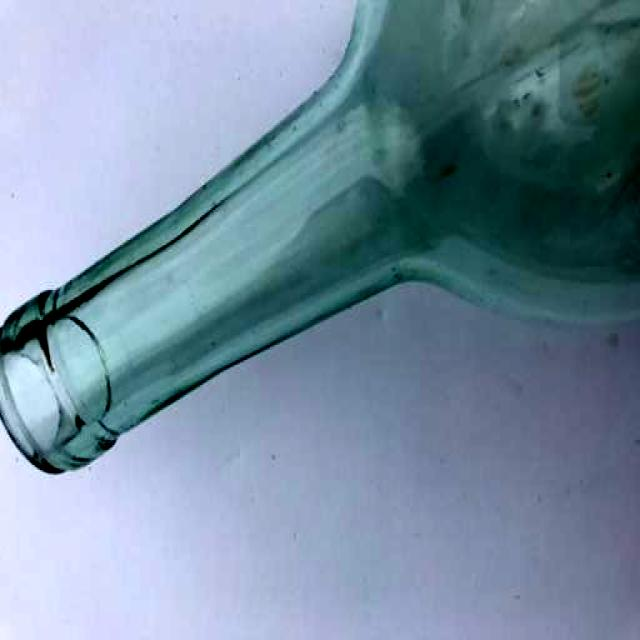Glass: (0, 0, 640, 480)
